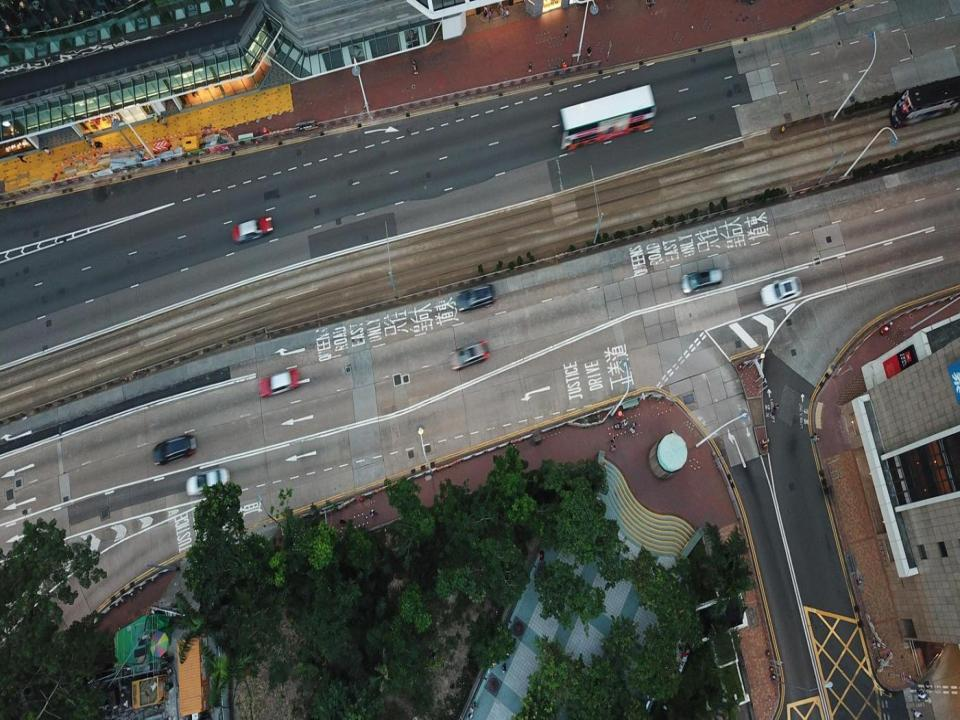bus: (560, 80, 656, 156), (889, 75, 959, 128)
car: (760, 274, 803, 311), (257, 366, 301, 400), (184, 468, 230, 496), (454, 286, 496, 314), (448, 343, 489, 368), (231, 218, 275, 240)
van: (152, 435, 198, 463), (680, 270, 726, 292)
